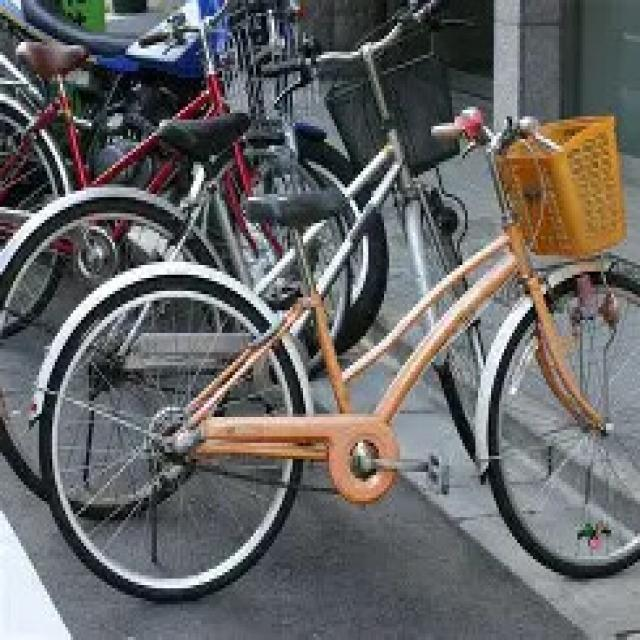basket: (492, 114, 622, 262), (326, 55, 459, 183)
